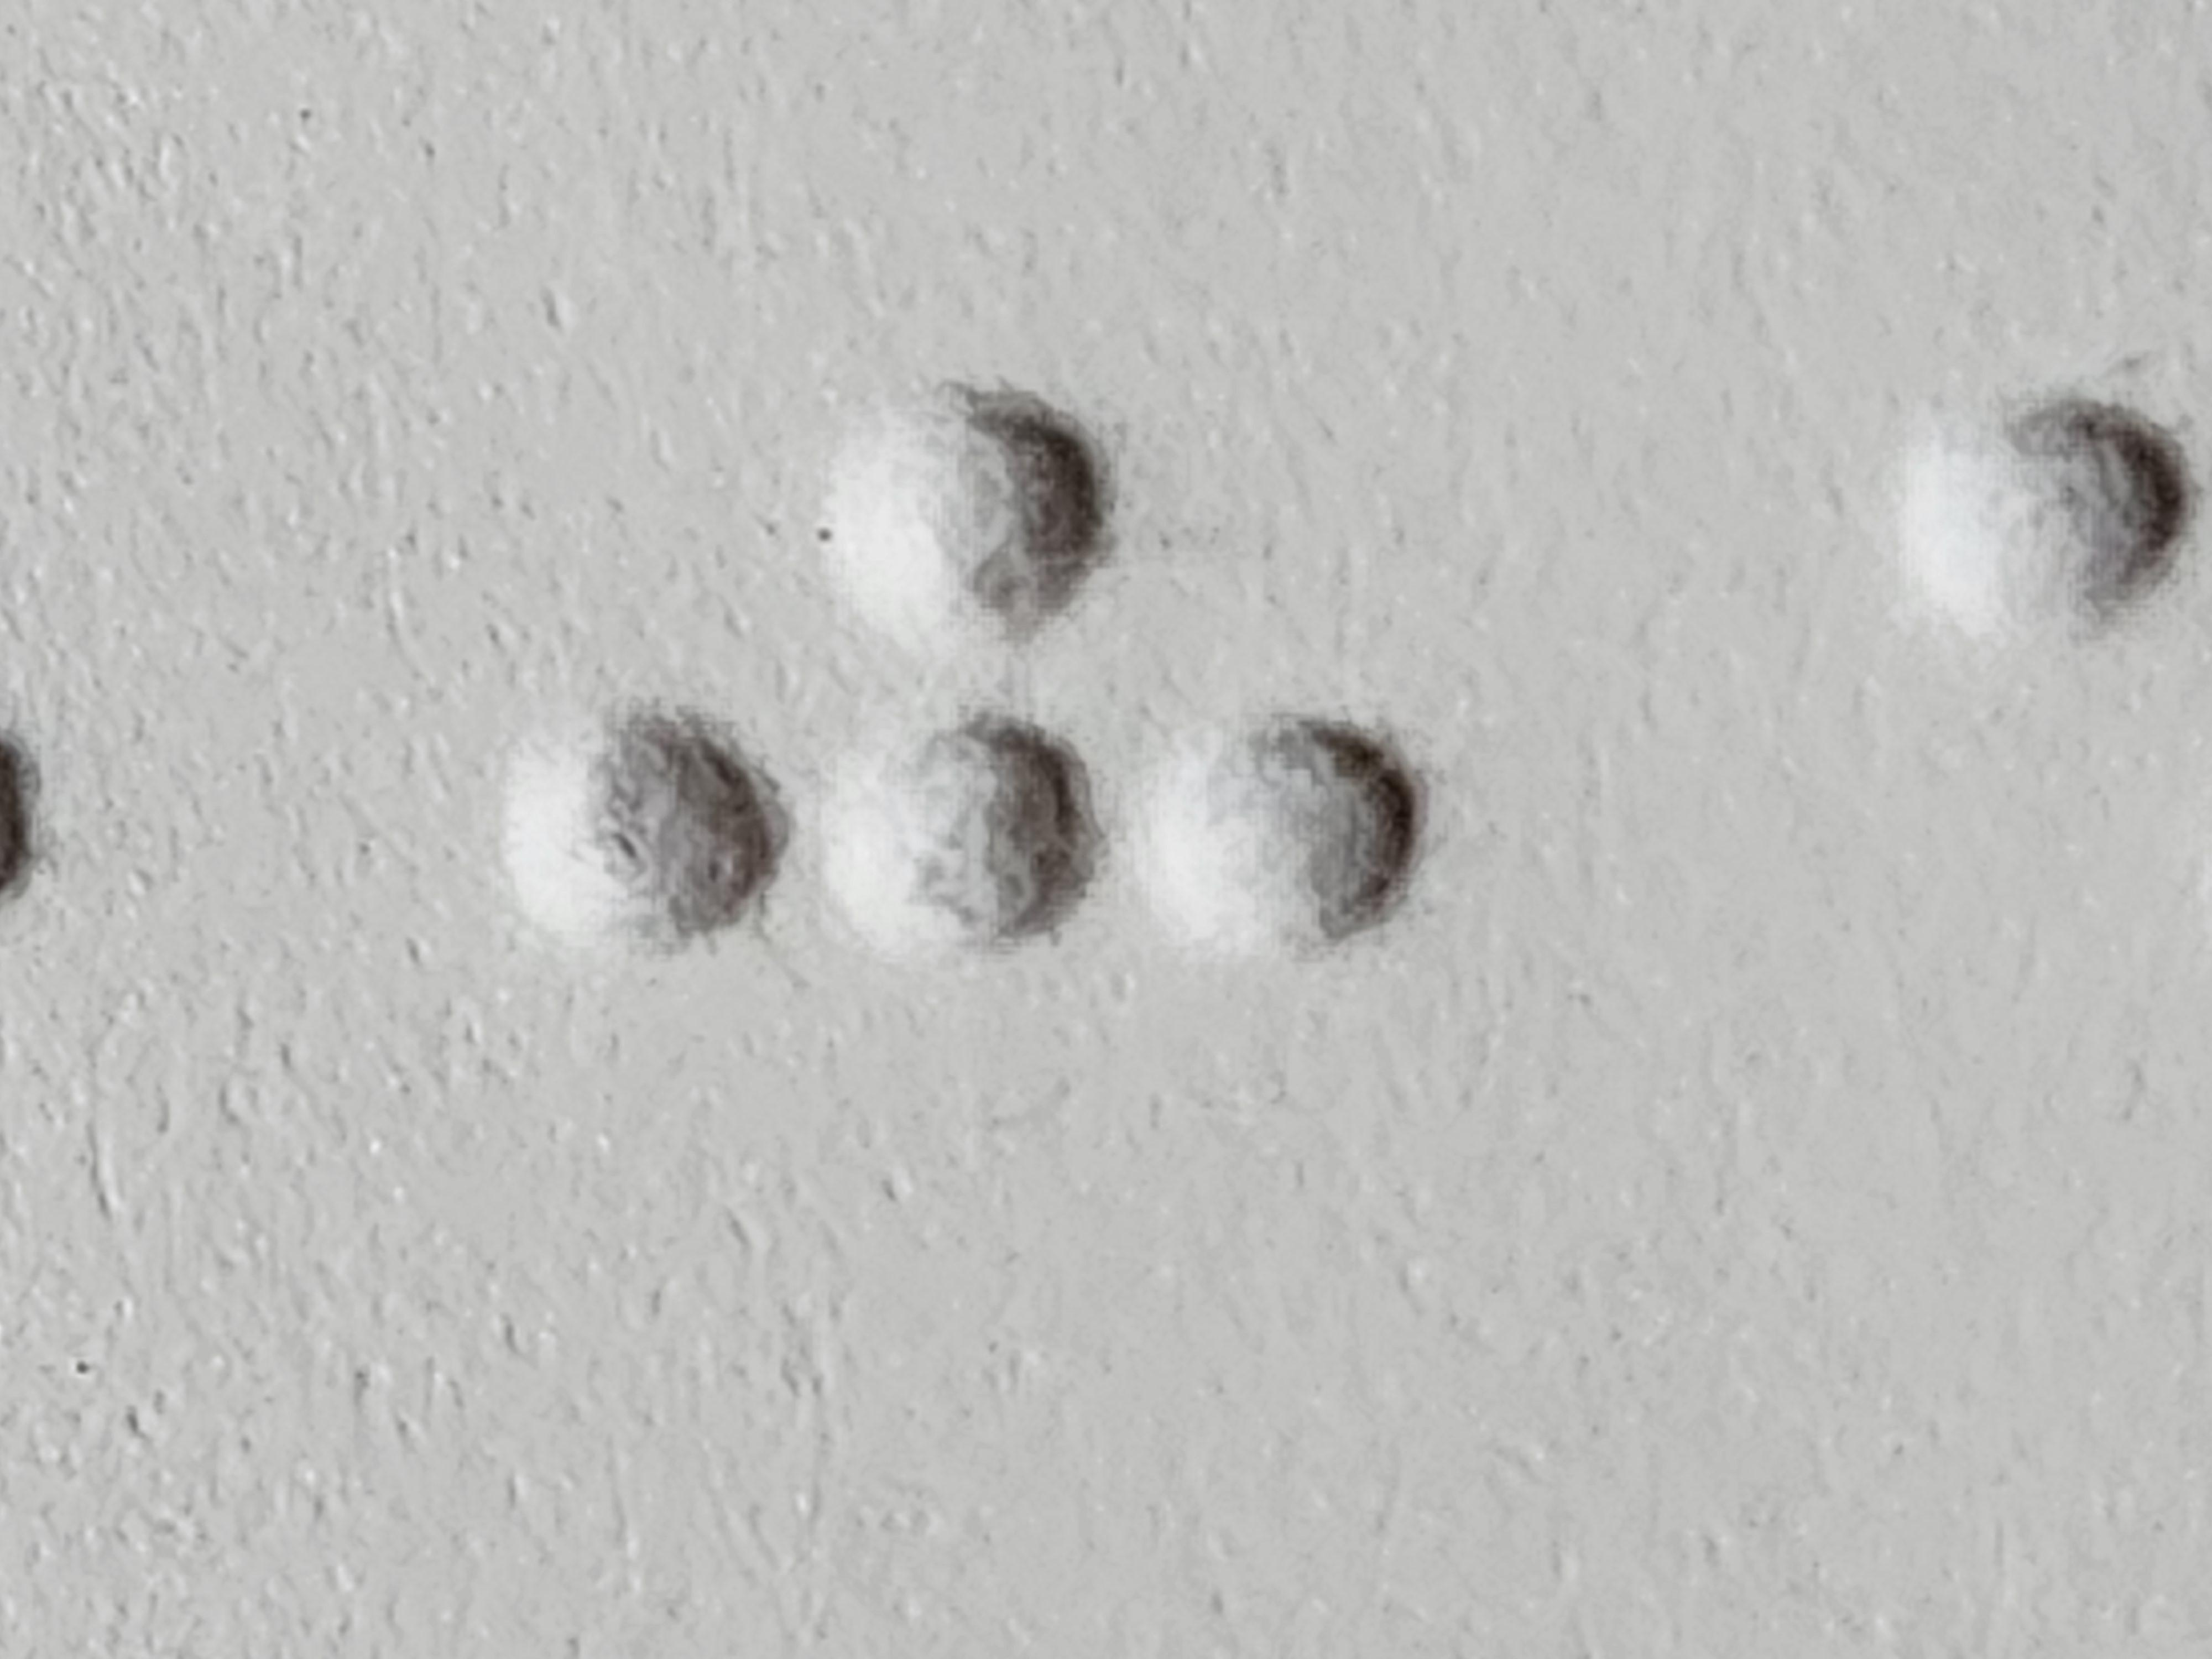one_cell_alphabet_rin: (953, 382, 1688, 1073)
